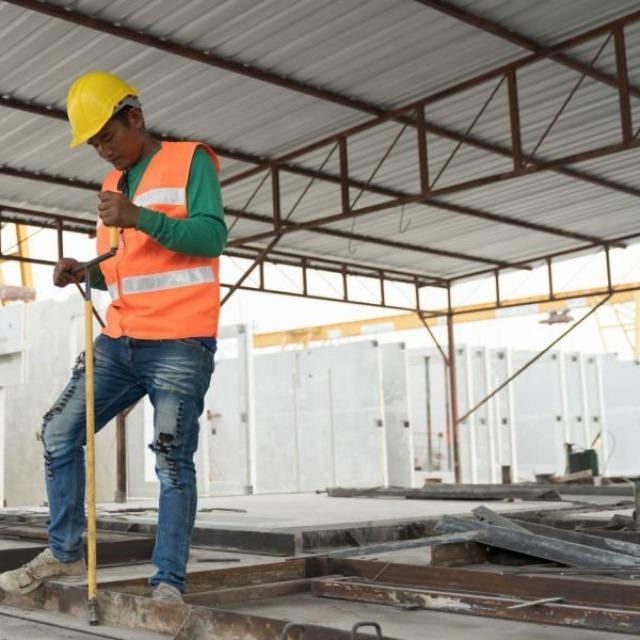Con_Casco: (64, 72, 141, 169)
Con_Chaleco: (94, 150, 222, 342)
